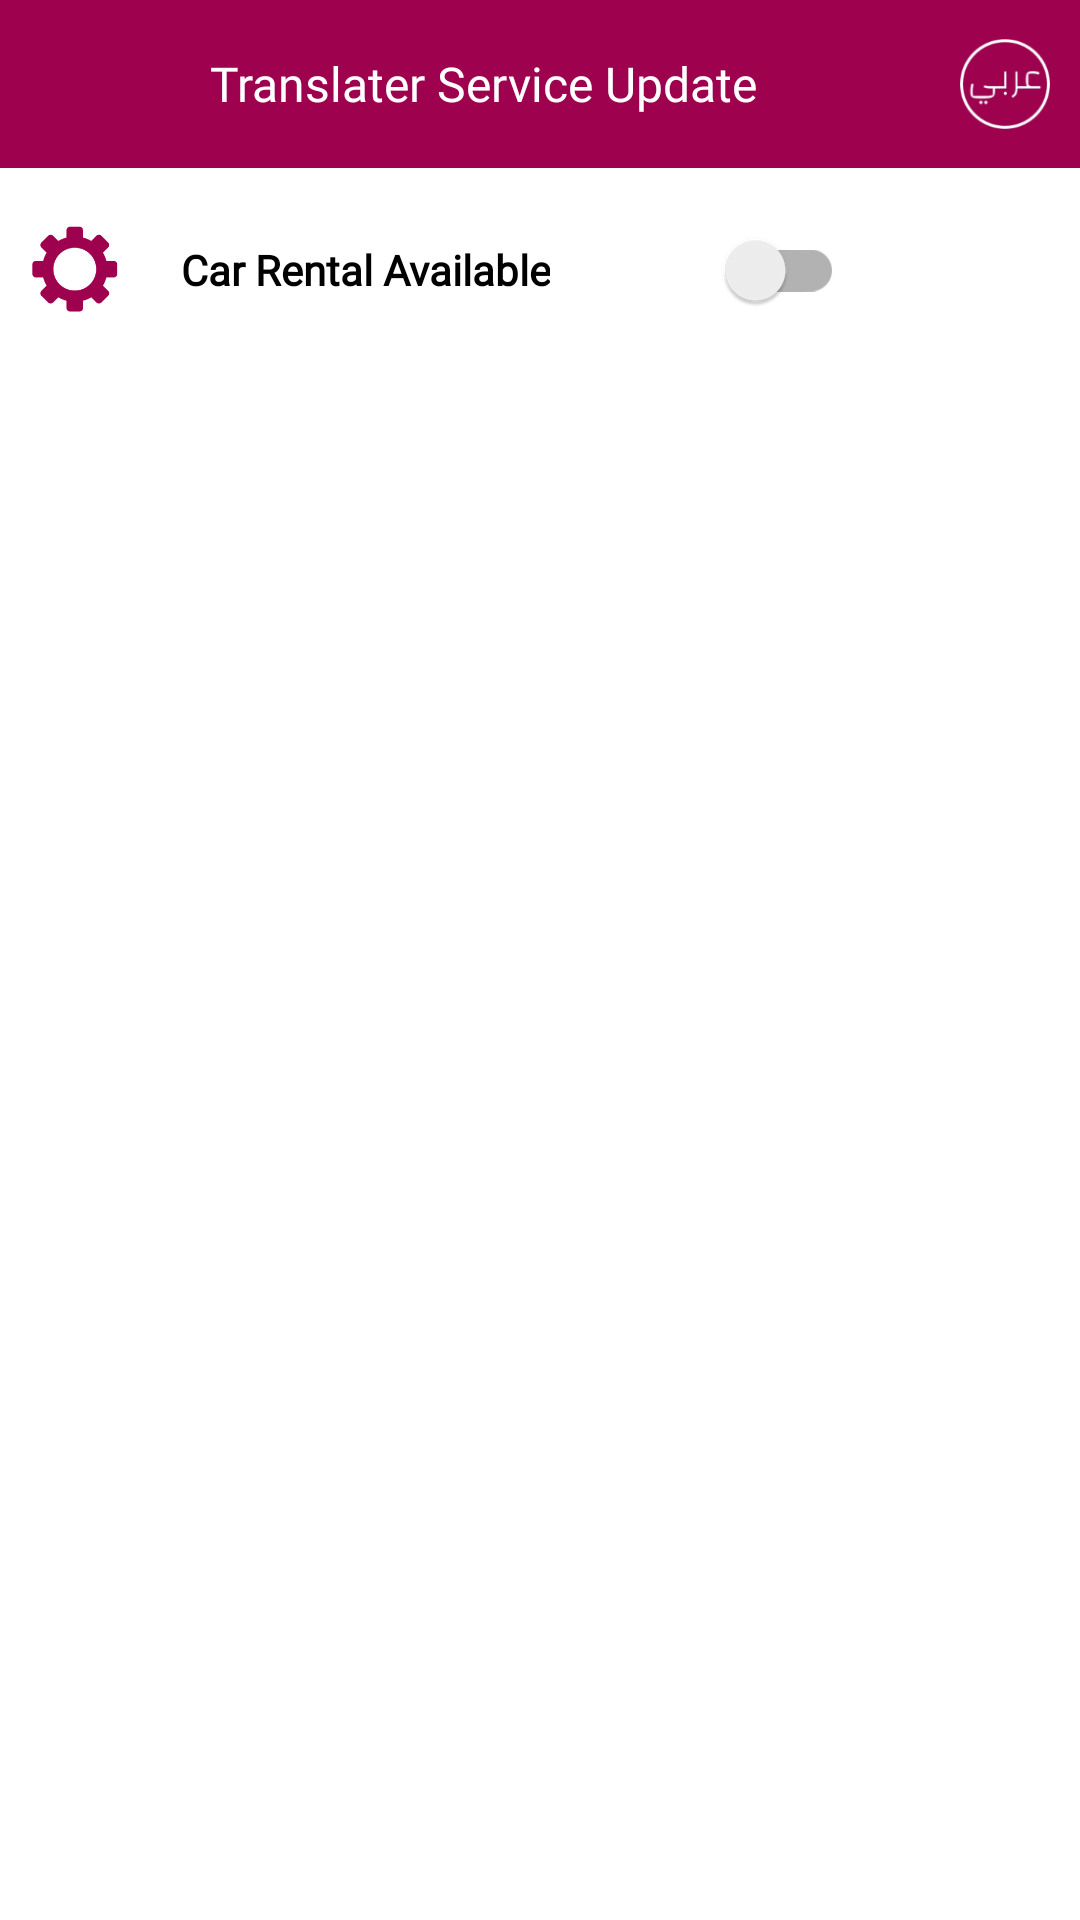

Icons on this 1080 x 1920 Android screen, each with the point to tap as (x=x, y=y):
setup: (x=75, y=269)
